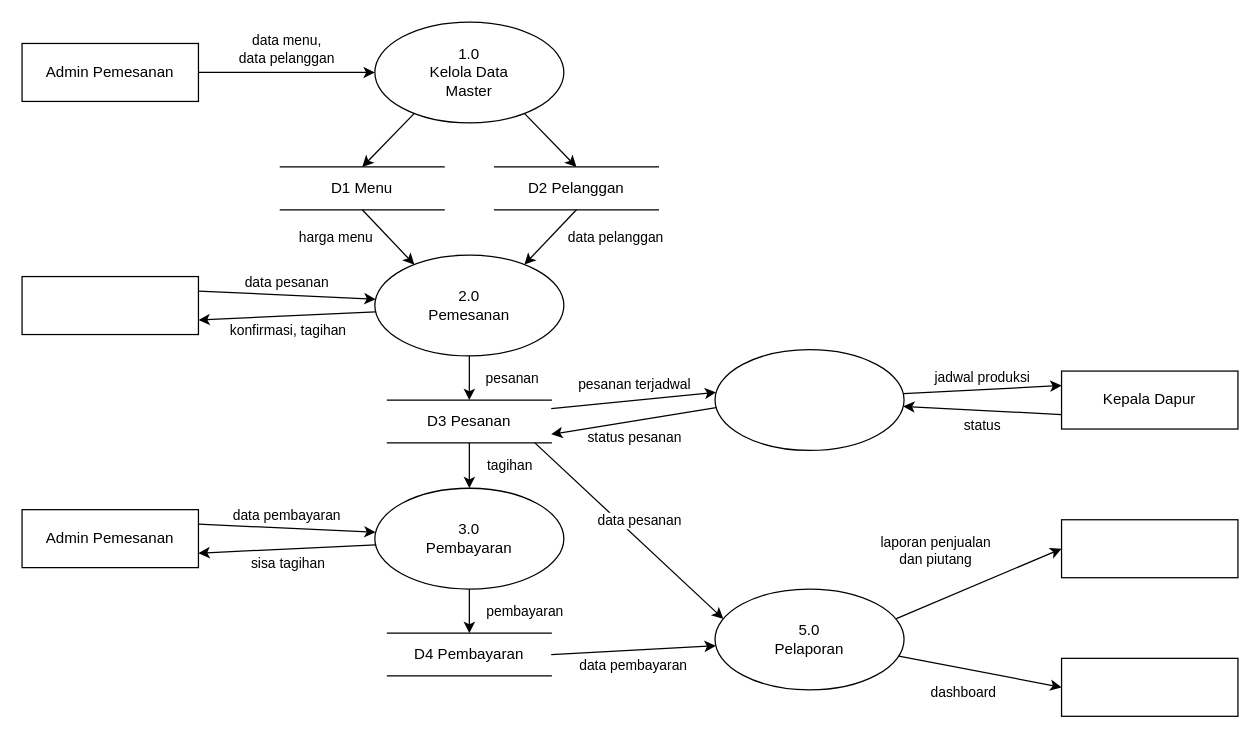
Image size: 1260x738. Some labels were removed from this diagram. The shapes that lost their labels are listed below. From the top down, each one's centre as x and y in pixels, then its label:
(109,305): Pelanggan
(809,399): 4.0 Produksi dan Pengiriman
(1149,548): Manajer Operasional
(1149,686): Pemilik
